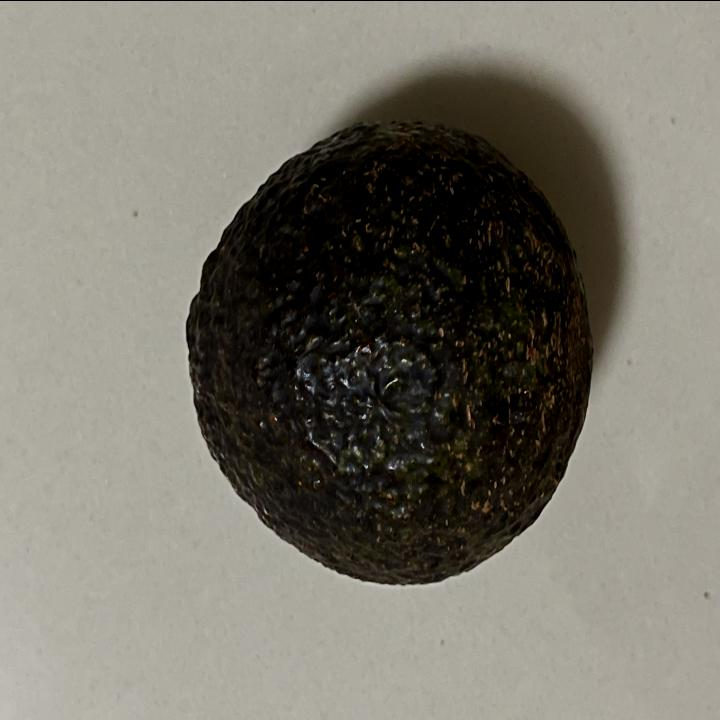Level1: (173, 112, 602, 600)
